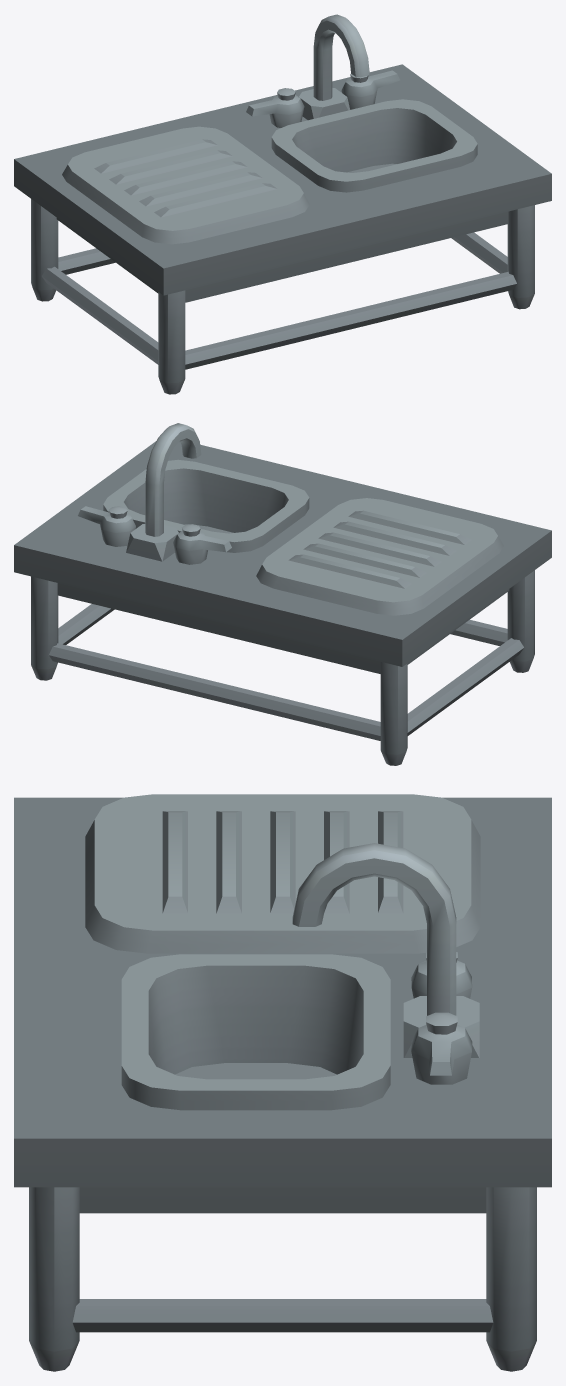
The model's file is kitchentable-sink-large.glb.
3 views of the same model, one above another, from view 1: azimuth 30°, elevation 25°; view 2: azimuth 150°, elevation 25°; view 3: azimuth 270°, elevation 25° (orthographic). The views are drawn at different scales.
Parts seen in each view (by area): view 1: kitchentable_sink_large; view 2: kitchentable_sink_large; view 3: kitchentable_sink_large.
Part boxes in pixels (left/top/right/bottom): kitchentable_sink_large: left=14, top=14, right=551, bottom=394; kitchentable_sink_large: left=14, top=423, right=551, bottom=765; kitchentable_sink_large: left=14, top=794, right=551, bottom=1371.
Size of the model in its own units: 3 by 1.8 by 2.
Materials: 1 (1 with a texture image).
